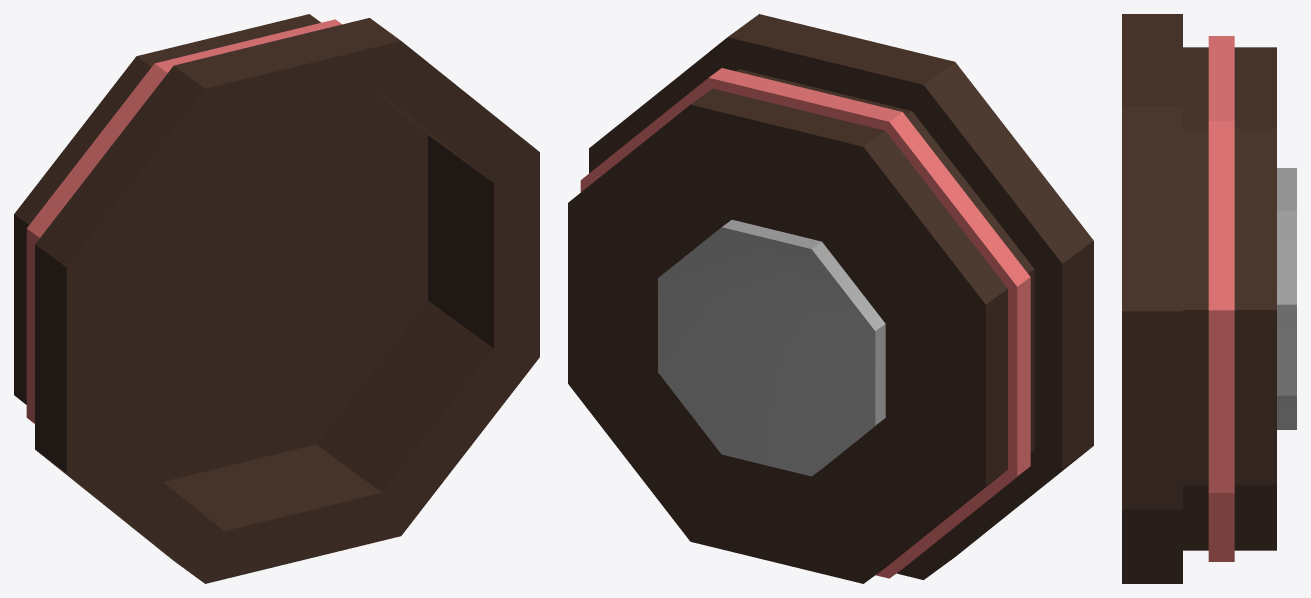
File: DistributorCap.fbx
3 renders of one model, left to right at view 1: azimuth 30°, elevation 25°; view 2: azimuth 150°, elevation 25°; view 3: azimuth 270°, elevation 25°, orthographic. The views are drawn at different scales.
Visible parts, largest first — view 1: Cylinder.044; view 2: Cylinder.044, Cylinder.046; view 3: Cylinder.044, Cylinder.046.
Part boxes in pixels (x1=…): Cylinder.044: x1=14, y1=14, x2=539, y2=583; Cylinder.044: x1=568, y1=14, x2=1093, y2=583; Cylinder.046: x1=658, y1=219, x2=885, y2=476; Cylinder.044: x1=1122, y1=14, x2=1276, y2=583; Cylinder.046: x1=1277, y1=168, x2=1296, y2=429.
Size of the model in its own units: 36.71 by 36.71 by 12.17.
